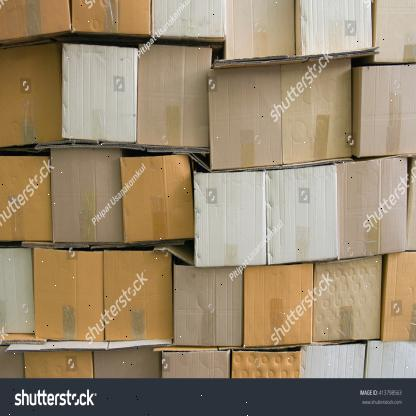box: (135, 44, 213, 148), (282, 55, 353, 165), (62, 42, 138, 144), (211, 64, 282, 170), (337, 156, 408, 258), (51, 146, 125, 243), (266, 166, 338, 264), (194, 171, 266, 268), (34, 246, 105, 343), (0, 45, 65, 147), (121, 155, 194, 242), (104, 250, 173, 341), (243, 263, 314, 345), (313, 257, 381, 340), (174, 264, 242, 346), (357, 65, 416, 158), (0, 155, 53, 242), (225, 0, 295, 62), (301, 0, 372, 55), (0, 0, 71, 44), (71, 0, 150, 39), (0, 247, 35, 334), (151, 0, 227, 40), (382, 251, 416, 339), (374, 0, 416, 63)
